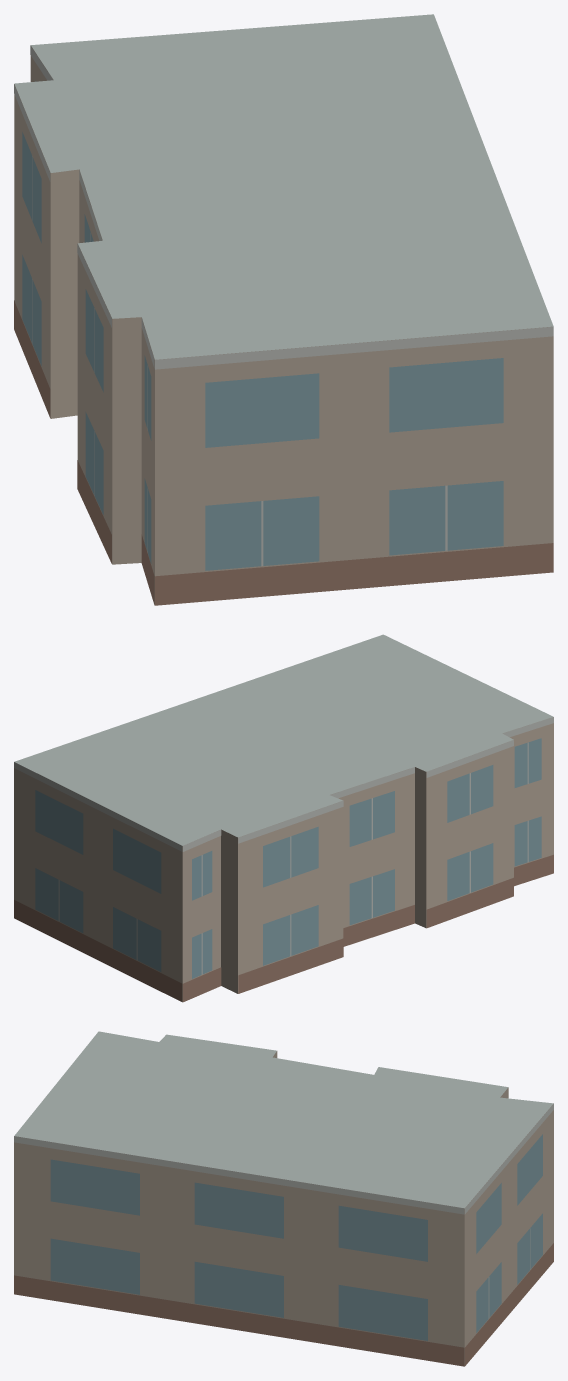
File: survey-upis-32893039.glb
3 views of the same model, one above another, from view 1: azimuth 30°, elevation 25°; view 2: azimuth 150°, elevation 25°; view 3: azimuth 270°, elevation 25° (orthographic). The views are drawn at different scales.
Visible parts, largest first — view 1: survey-upis-32893039.tmp; view 2: survey-upis-32893039.tmp; view 3: survey-upis-32893039.tmp.
Boxes of the visible parts, x1,y1,x2,y2 form: survey-upis-32893039.tmp: [14, 14, 553, 605]; survey-upis-32893039.tmp: [14, 634, 553, 1002]; survey-upis-32893039.tmp: [14, 1031, 553, 1366].
Bounding box in the file's own units: 14.64 × 6.1 × 18.86.
